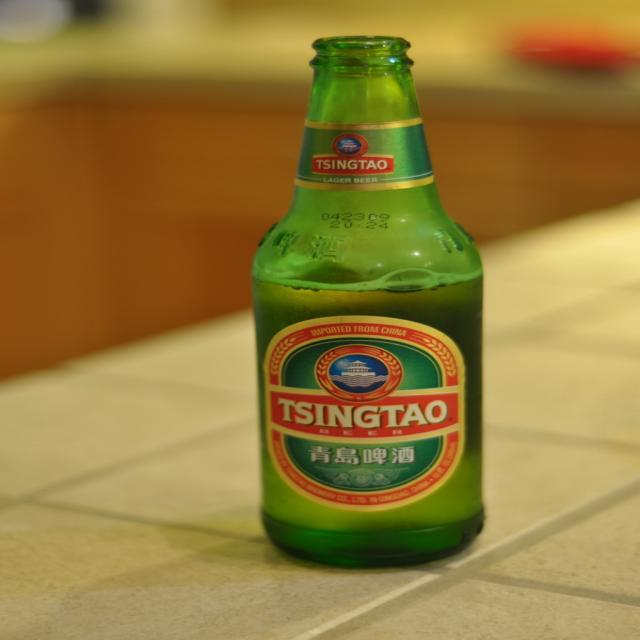tsingtao: (264, 315, 467, 513)
